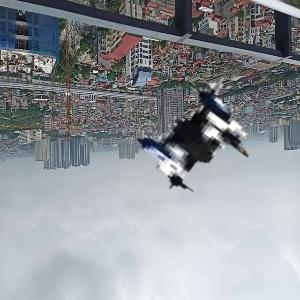drone: (81, 35, 259, 213)
